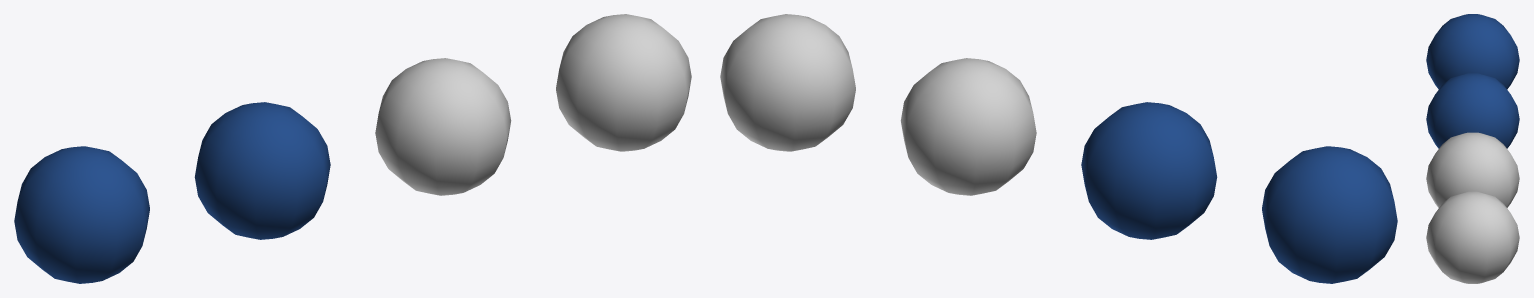
Rendered from balls.obj.
The picture shows the model from 3 angles, left to right: view 1: azimuth 30°, elevation 25°; view 2: azimuth 150°, elevation 25°; view 3: azimuth 270°, elevation 25°; orthographic projection. The views are drawn at different scales.
Visible parts, largest first — view 1: Sphere, Sphere.002, Sphere.001, Sphere.003; view 2: Sphere, Sphere.002, Sphere.001, Sphere.003; view 3: Sphere.003, Sphere.002, Sphere, Sphere.001.
Part boxes in pixels (x1=…): Sphere: x1=194, y1=102, x2=330, y2=239; Sphere.002: x1=375, y1=58, x2=511, y2=195; Sphere.001: x1=14, y1=146, x2=149, y2=283; Sphere.003: x1=556, y1=14, x2=691, y2=151; Sphere: x1=1081, y1=102, x2=1217, y2=239; Sphere.002: x1=900, y1=58, x2=1036, y2=195; Sphere.001: x1=1262, y1=146, x2=1397, y2=283; Sphere.003: x1=720, y1=14, x2=855, y2=151; Sphere.003: x1=1426, y1=191, x2=1519, y2=283; Sphere.002: x1=1426, y1=132, x2=1519, y2=207; Sphere: x1=1426, y1=73, x2=1519, y2=148; Sphere.001: x1=1426, y1=14, x2=1519, y2=89.
Bounding box in the file's own units: 10.9 × 2 × 2.
